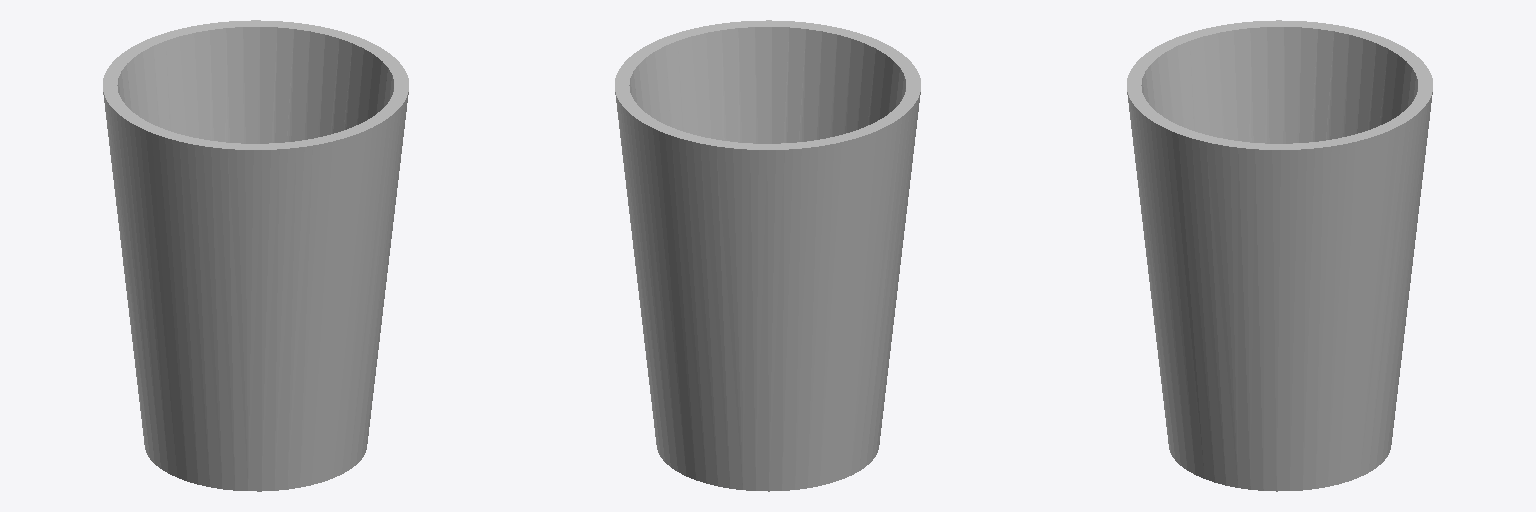
URDF robot description (cup):
<?xml version="1.0" ?>

<robot name="cup">

	<!-- Link 0 -->
	<link name="link_0">
		<inertial>
			<mass value="0.05" />
			<inertia ixx="0.00012448" ixy="0.0" ixz="0.0" iyy="0.00012448" iyz="0.0" izz="0.000165625" />
			<origin xyz="0 0 0" />
		</inertial>
		<visual>
			<geometry>
				<mesh filename="objects/cup.dae"/>
			</geometry>
		</visual>
		<collision>
			<geometry>
				<mesh filename="objects/cup.dae"/>
			</geometry>
		</collision>
	</link>

</robot>

--- Facts derived from the render (not from the file) ---
Views: 3 orthographic renders of the robot side by side, from view 1: azimuth 30°, elevation 25°; view 2: azimuth 150°, elevation 25°; view 3: azimuth 270°, elevation 25°.
Model cup with 1 links and 0 joints (none), rooted at link_0, posed all joints at 0.
Visible links, largest first — view 1: link_0; view 2: link_0; view 3: link_0.
Boxes of the visible links, x1,y1,x2,y2 form: link_0: (103,20,408,491); link_0: (615,20,920,491); link_0: (1127,20,1432,491).
Bounding box of the posed robot: 0.0619 × 0.0619 × 0.08 m (x, y, z).
Meshes: 1 distinct files referenced, 1 mesh visuals loaded (1 Collada DAE).